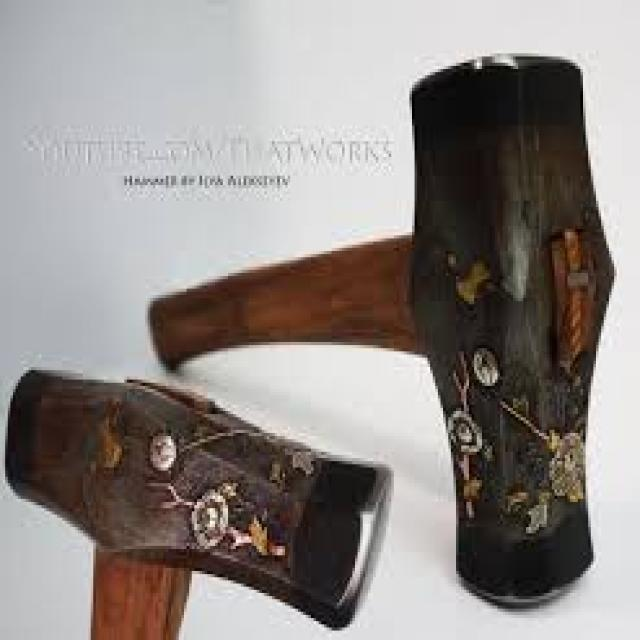hammer: (146, 39, 624, 614), (0, 357, 414, 640)
